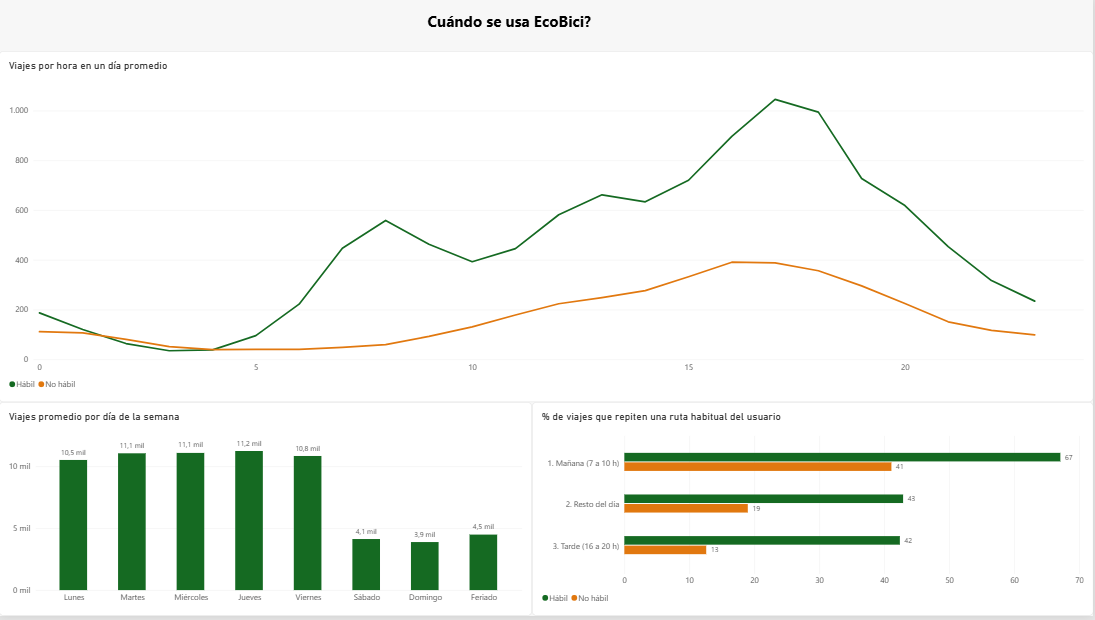

What the dashboard file says about the page in this screenshot:
{"tool":"powerbi","page":{"name":"dias-horas","canvas":[1920,1080],"ordinal":0},"visuals":[{"type":"lineChart","title":"Viajes por hora en un día promedio","fields":{"Category":["uso_por_hora.hora"],"Series":["uso_por_hora.tipo_dia"],"Y":["Sum(uso_por_hora.viajes_promedio_por_dia)"]},"box":[0,90,1920,616],"z":0},{"type":"clusteredColumnChart","title":"Viajes promedio por día de la semana","fields":{"Category":["uso_por_dia_semana.dia"],"Y":["Sum(uso_por_dia_semana.viajes_promedio)"]},"box":[0,705,935,375],"z":1000},{"type":"clusteredBarChart","title":"% de viajes que repiten una ruta habitual del usuario","fields":{"Category":["perfil_uso.franja"],"Series":["perfil_uso.tipo_dia"],"Y":["Sum(perfil_uso.pct_ruta_habitual)"]},"box":[935,705,985,375],"z":2000},{"type":"textbox","box":[0,0,1790,90],"z":3000}]}

Visuals, with their boxes in screenshot pixels (x1, y1, x2, y2), scaled from the page's 1920x1080 canvas onto the 1095x620 screenshot:
"Viajes por hora en un día promedio" lineChart: (left=0, top=52, right=1094, bottom=405)
"Viajes promedio por día de la semana" clusteredColumnChart: (left=0, top=405, right=533, bottom=619)
"% de viajes que repiten una ruta habitual del usuario" clusteredBarChart: (left=533, top=405, right=1094, bottom=619)
textbox: (left=0, top=0, right=1021, bottom=52)
